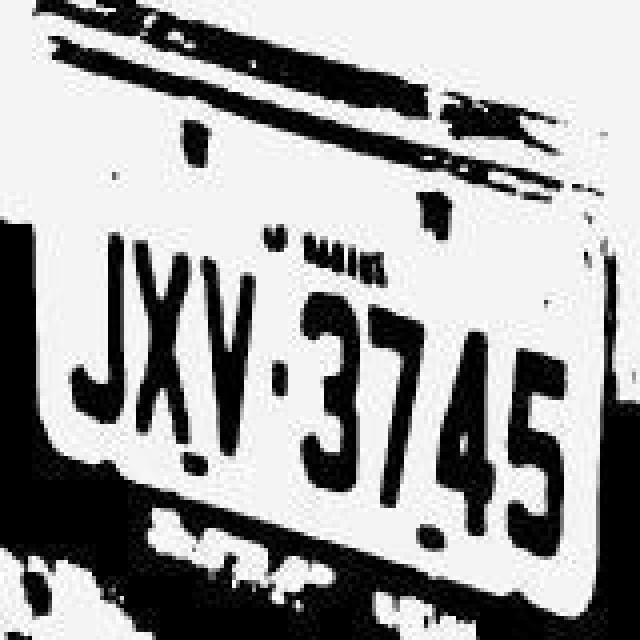3: (288, 290, 360, 510)
4: (434, 312, 502, 536)
5: (500, 330, 572, 566)
7: (360, 298, 424, 518)
J: (62, 204, 130, 444)
V: (198, 254, 258, 458)
X: (124, 238, 196, 450)
